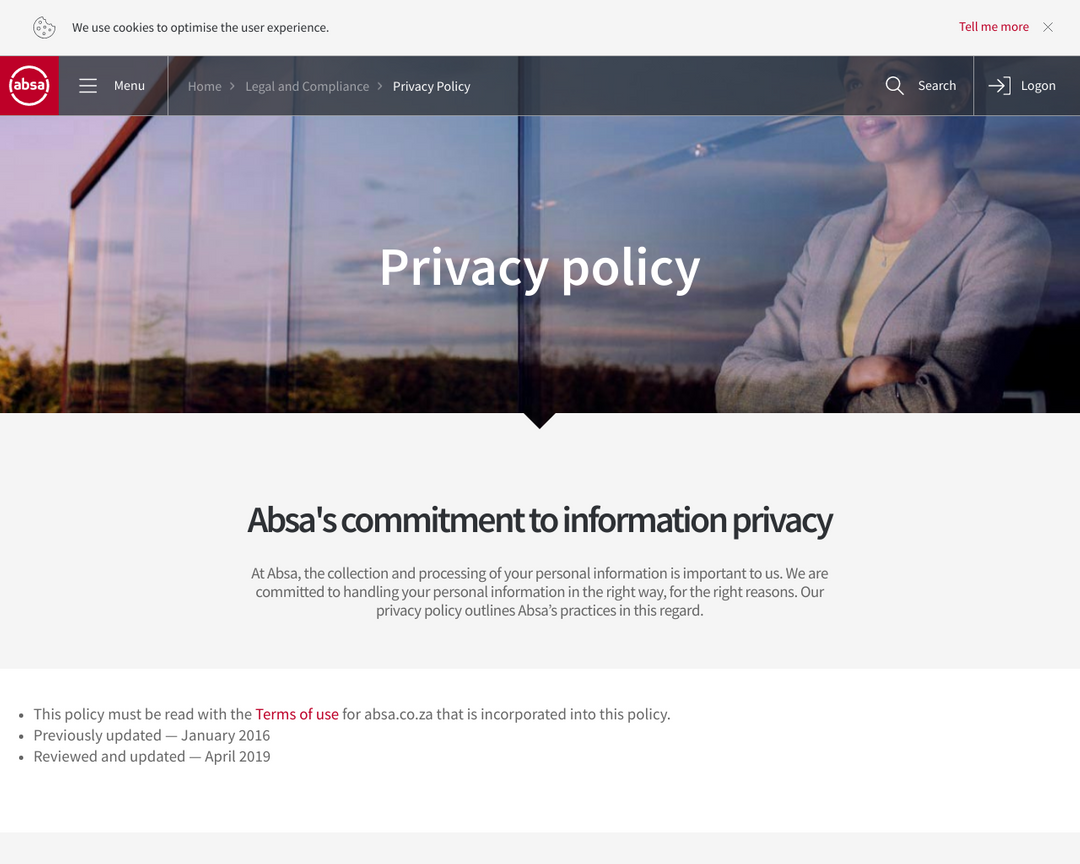ABSA: (9, 63, 52, 108)
